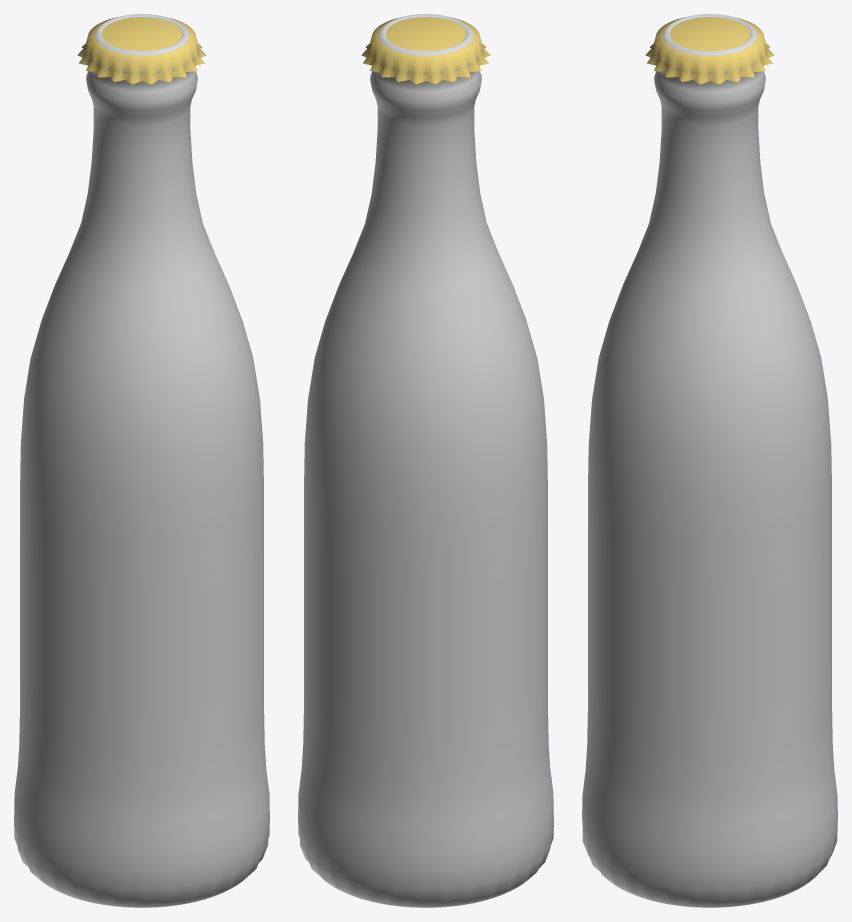
File: bottle1.fbx
3 views of the same model, side by side, from view 1: azimuth 30°, elevation 25°; view 2: azimuth 150°, elevation 25°; view 3: azimuth 270°, elevation 25° (orthographic).
Parts seen in each view (by area): view 1: Glass_Bottle, Crown_Cap; view 2: Glass_Bottle, Crown_Cap; view 3: Glass_Bottle, Crown_Cap.
Part boxes in pixels (x1,y1,x2,y2): Glass_Bottle: [14, 14, 269, 907]; Crown_Cap: [77, 17, 206, 84]; Glass_Bottle: [298, 14, 553, 907]; Crown_Cap: [361, 17, 490, 84]; Glass_Bottle: [582, 14, 837, 907]; Crown_Cap: [645, 17, 774, 84].
Bounding box in the file's own units: 6.5 × 23.25 × 6.5.
